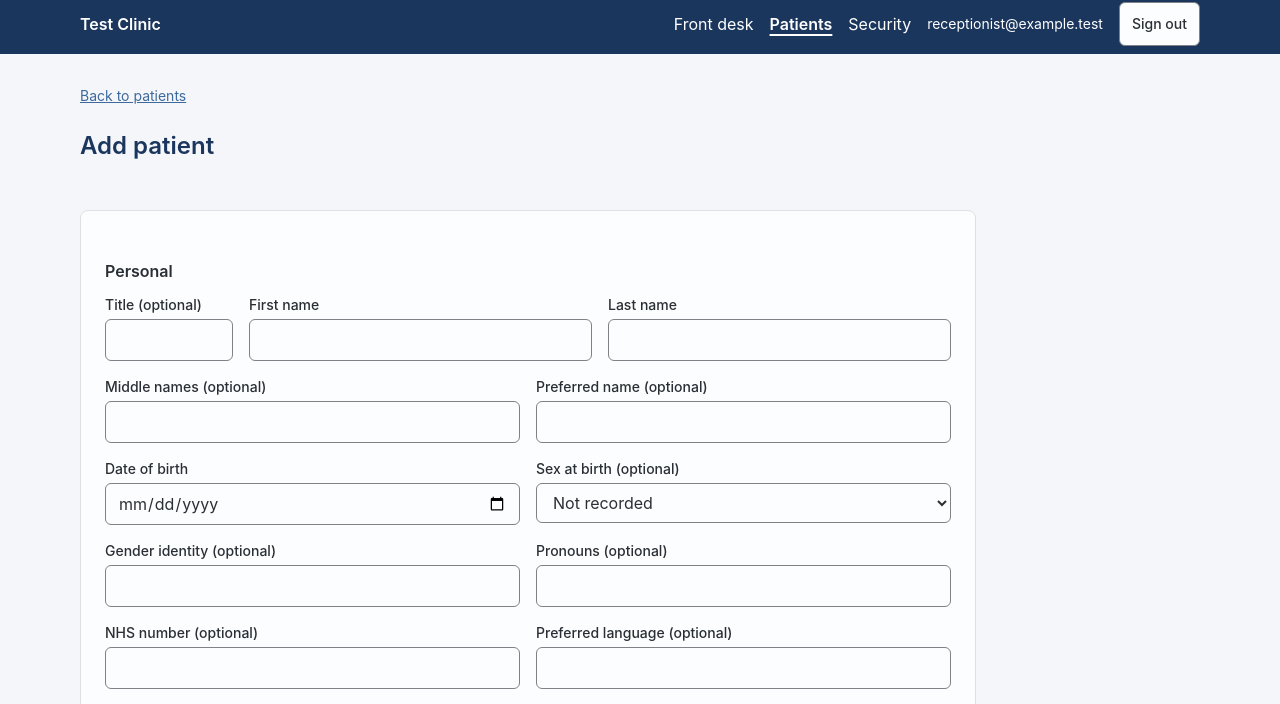
Test: add patient › creates a record and opens it
The width and height of the screenshot is (1280, 704).
Type "New" into the field labelled "First name" at (420, 340), box [249,319,592,361]
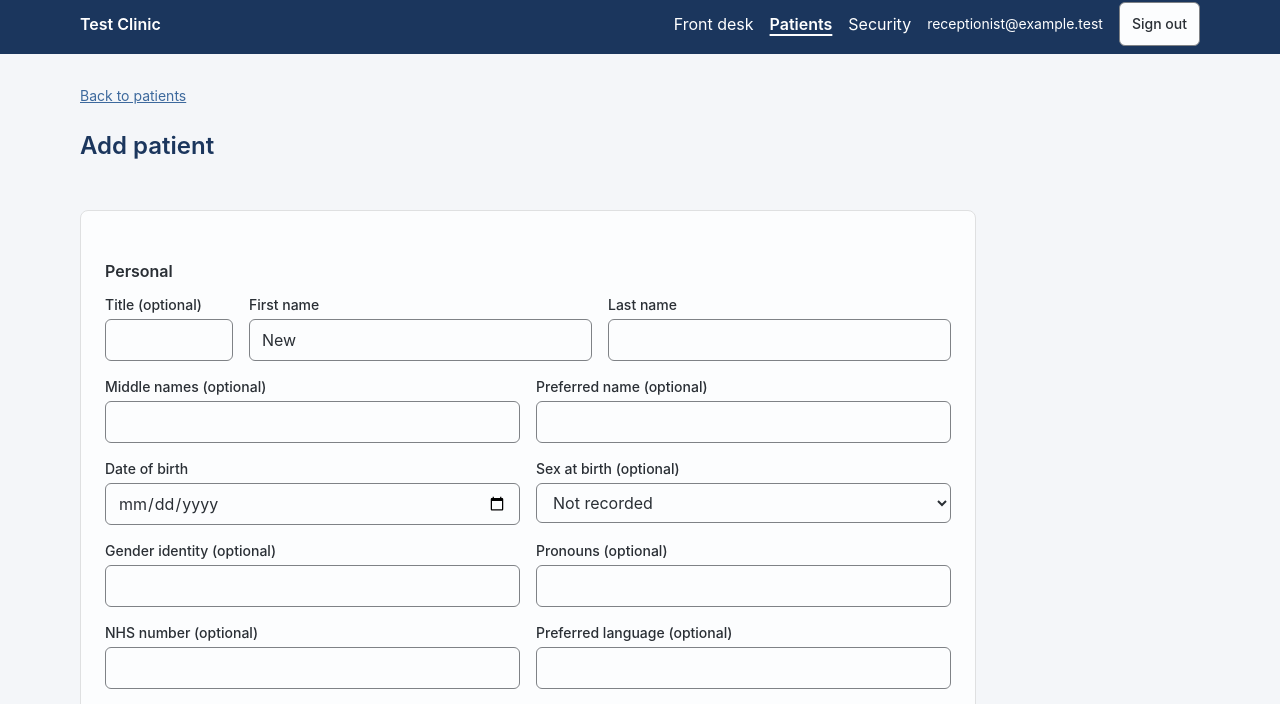
Type "Fakeperson" into the field labelled "Last name" at (780, 340), box [608,319,951,361]
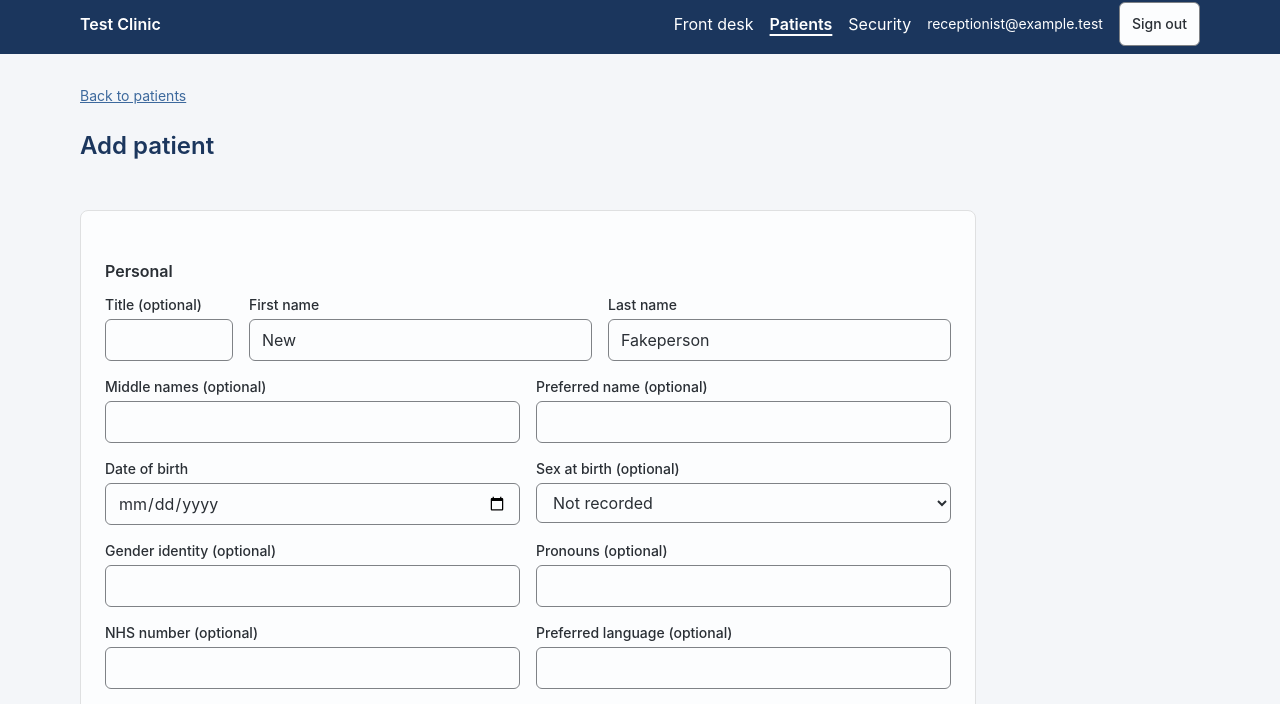
Type "1975-11-30" into the date field labelled "Date of birth" at (312, 504), box [105,483,520,525]
(page scrolled)
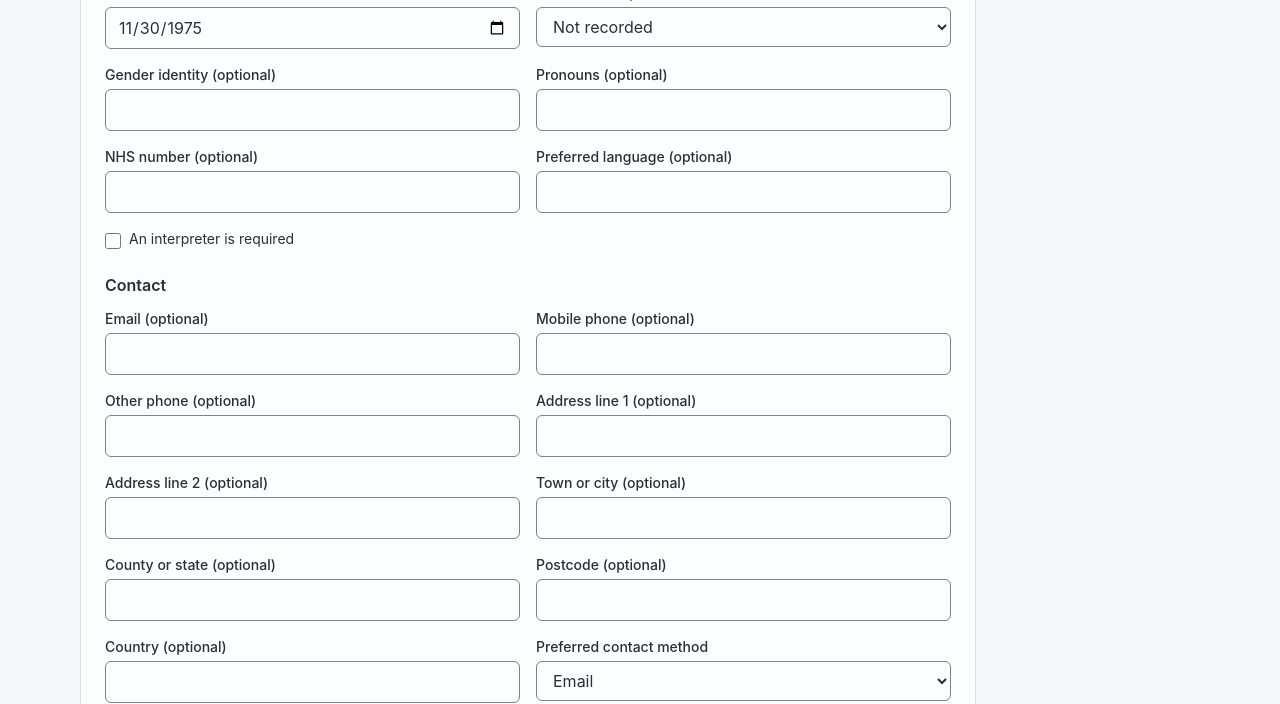
Type "new@example.test" into the field labelled "Email (optional)" at (312, 354), box [105,333,520,375]
(page scrolled)
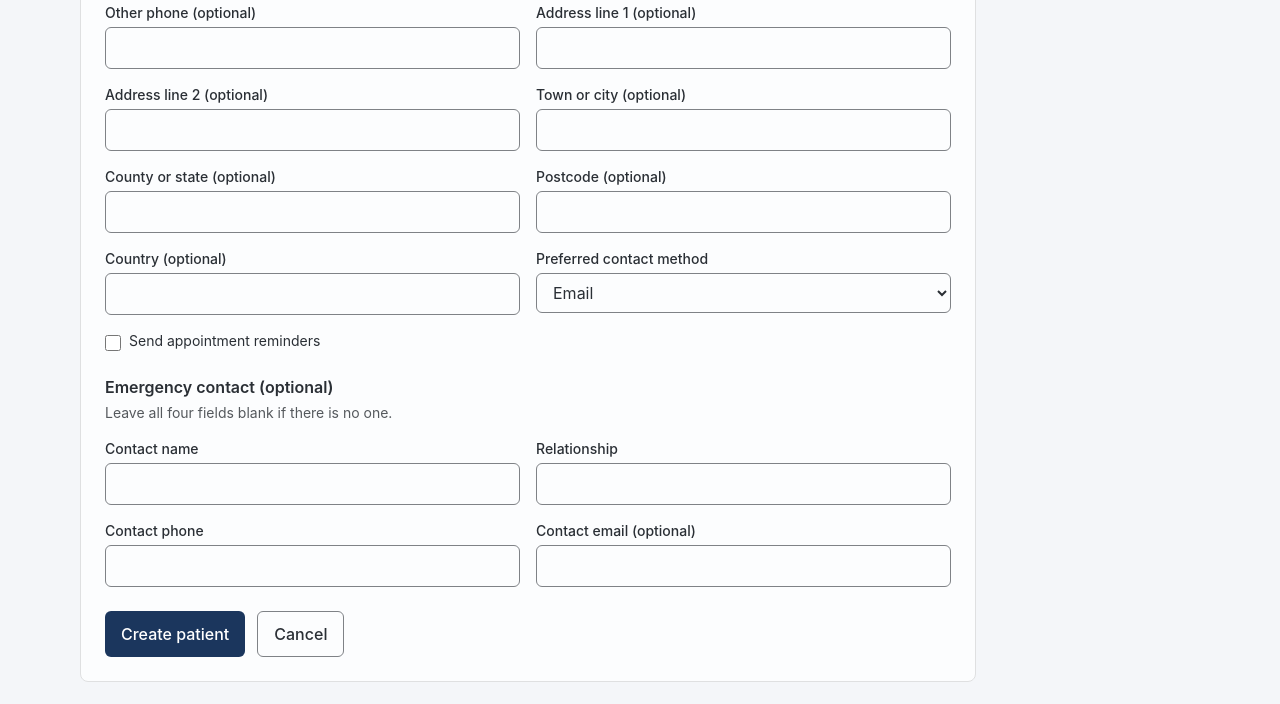
Click the button "Create patient" at (175, 634), box [105,611,245,657]
(page scrolled)
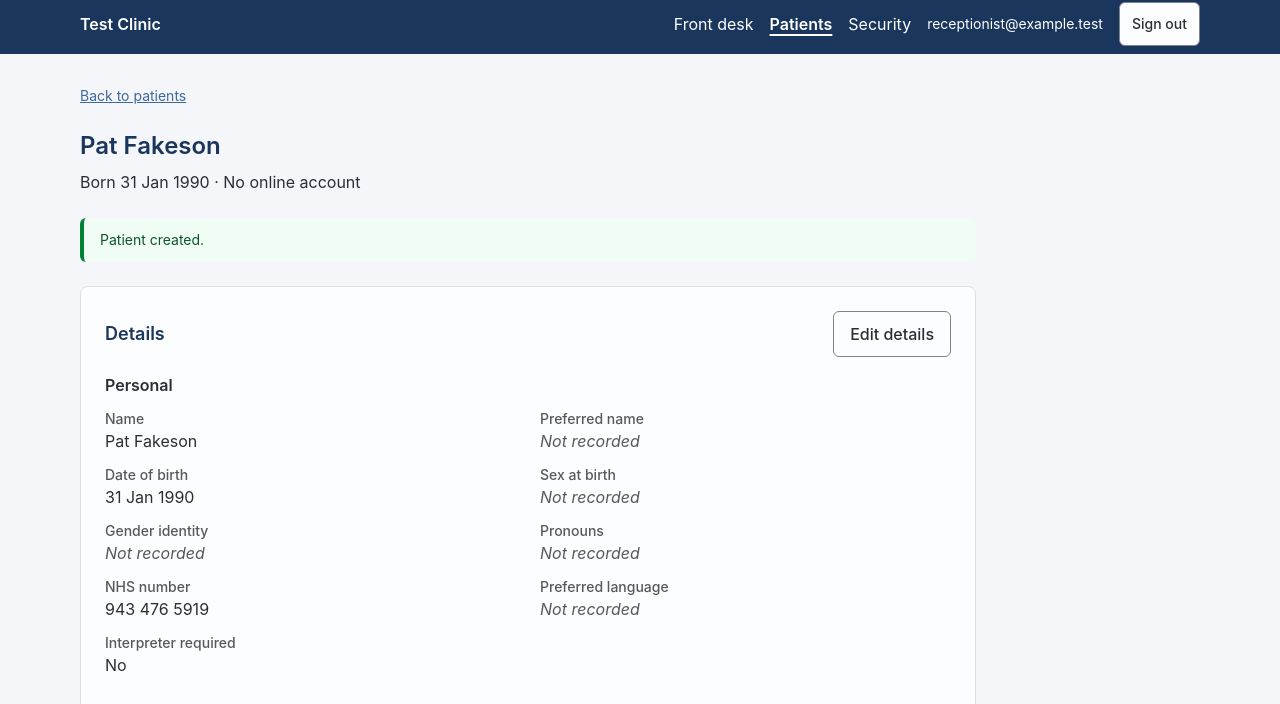
Expected: the text "Patient created." is shown, [100,231,204,248]
